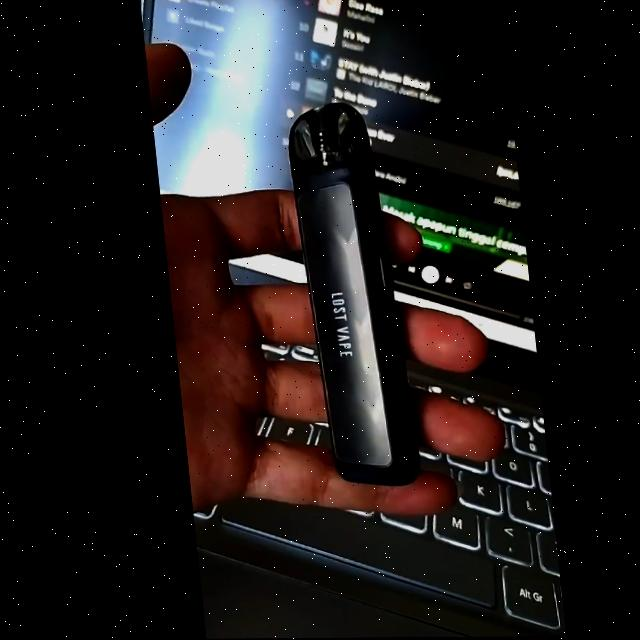vape: (283, 104, 415, 484)
